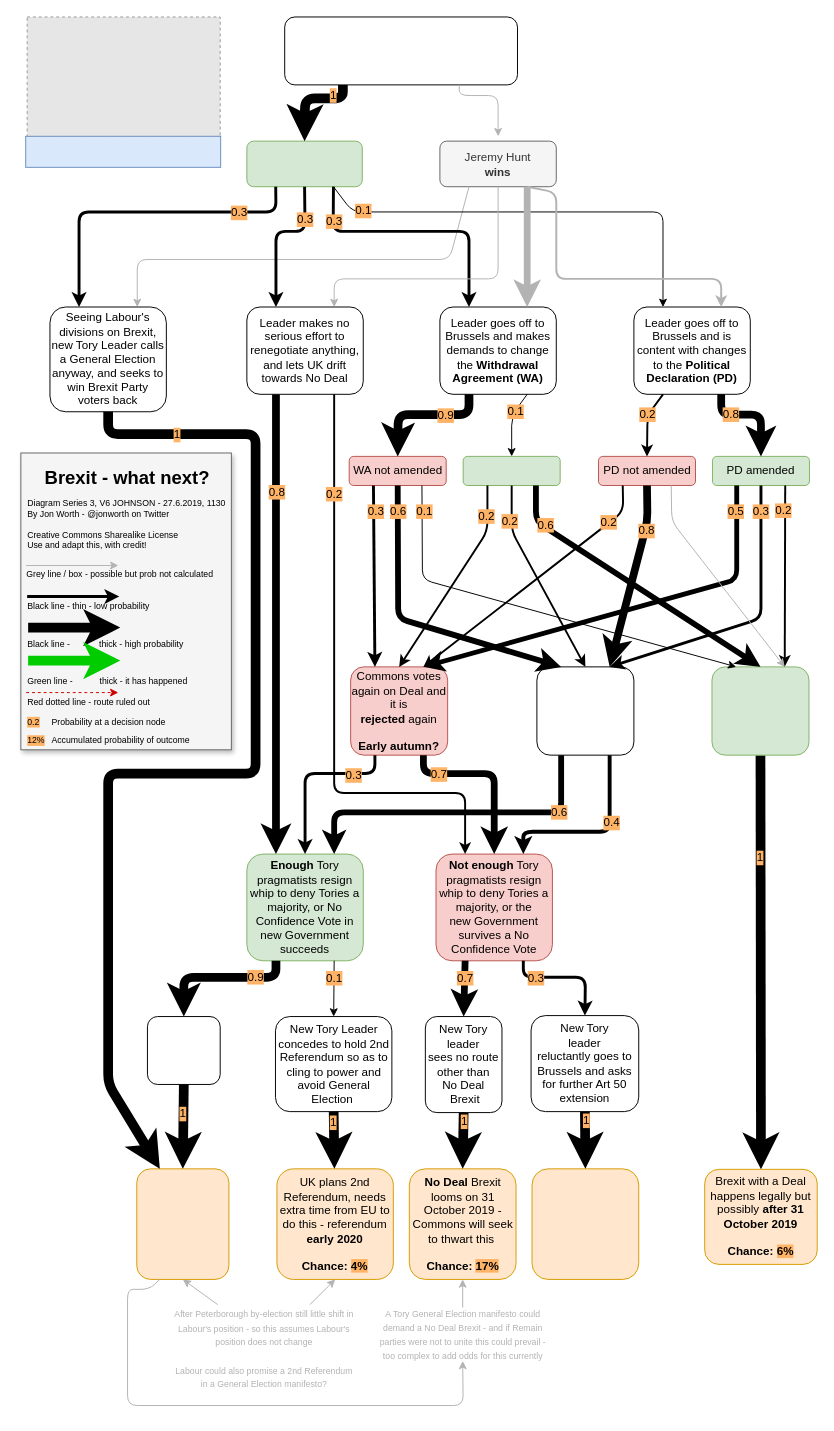
The diagram is 834 pixels wide and 1431 high, and some of its shapes have lost their labels. Grey dashed boxes stand in for pictures. The centre of each missing label's shape, as x and y in pixels:
"Boris Johnson wins" goes at (304,163).
"Commons votes again on Deal and it is approved Early autumn?" goes at (760,710).
"Further extension to Article 50 period requested by UK Chance: 7%" goes at (585,1223).
"If Johnson Wins" goes at (123,151).
"No majority for new Tory Leader in Commons" goes at (183,1050).
"No vote on any Deal happens Early autumn?" goes at (585,710).
"Tory Membership chooses between Johnson and Hunt Result 23 July" goes at (400,50).
"UK heads for a General Election sometime before 31 Oct 2019 Chance: 66%" goes at (182,1223).
"WA amended" goes at (511,470).
